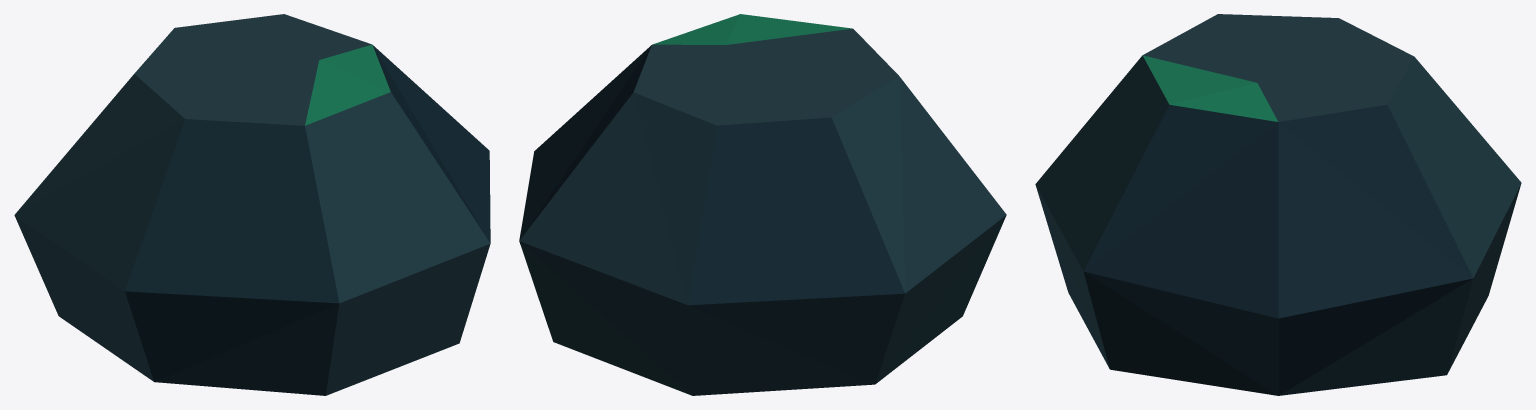
File: rock.fbx
3 views of the same model, side by side, from view 1: azimuth 30°, elevation 25°; view 2: azimuth 150°, elevation 25°; view 3: azimuth 270°, elevation 25° (orthographic). The views are drawn at different scales.
Visible parts, largest first — view 1: rock; view 2: rock; view 3: rock.
Part boxes in pixels (box(x1,y1,x2,y2)): rock: box(14, 14, 490, 395); rock: box(519, 14, 1006, 395); rock: box(1035, 14, 1521, 395).
Size of the model in its own units: 1.18 by 0.66 by 1.15.
